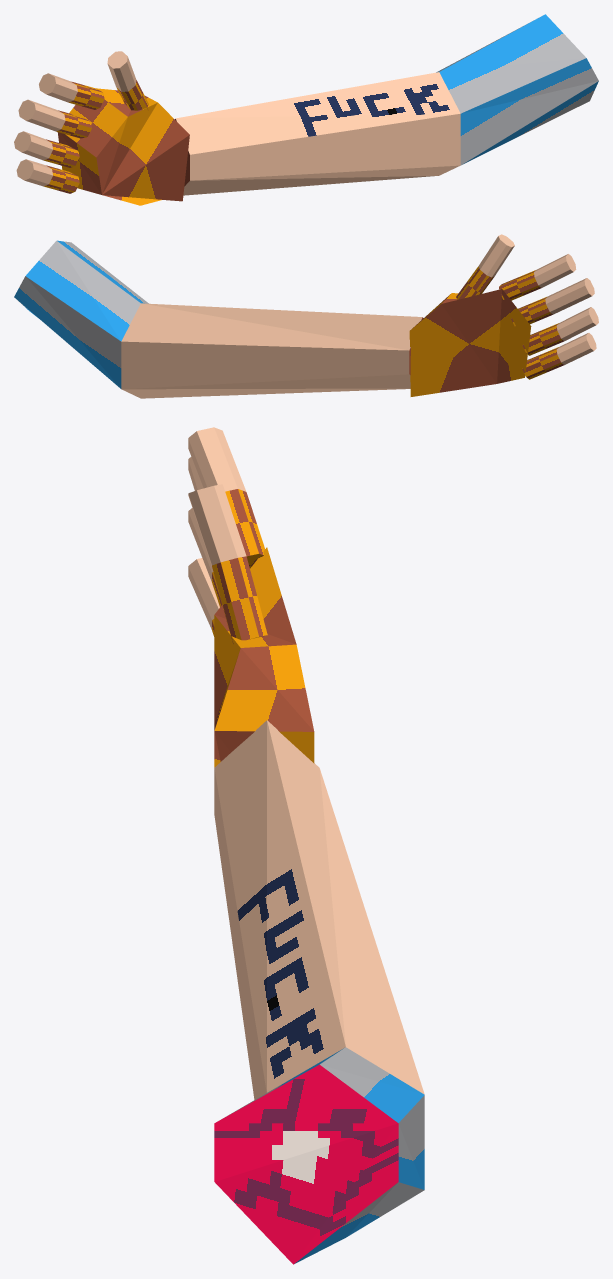
The model's file is hand1.glb.
3 renders of one model, top to bottom at view 1: azimuth 30°, elevation 25°; view 2: azimuth 150°, elevation 25°; view 3: azimuth 270°, elevation 25°, orthographic. The views are drawn at different scales.
Visible parts, largest first — view 1: mesh_0, mesh_1, mesh_2, mesh_5, mesh_3, mesh_6, mesh_4; view 2: mesh_0, mesh_1, mesh_5, mesh_2, mesh_3, mesh_4, mesh_6; view 3: mesh_0, mesh_1, mesh_6, mesh_5, mesh_4.
Part boxes in pixels (left/top/right/bottom): mesh_0: left=175, top=14, right=598, bottom=195; mesh_1: left=57, top=88, right=189, bottom=205; mesh_2: left=18, top=99, right=91, bottom=138; mesh_5: left=39, top=73, right=104, bottom=109; mesh_3: left=14, top=131, right=79, bottom=167; mesh_6: left=107, top=51, right=148, bottom=110; mesh_4: left=16, top=159, right=79, bottom=193; mesh_0: left=14, top=240, right=423, bottom=398; mesh_1: left=409, top=289, right=531, bottom=396; mesh_5: left=499, top=254, right=576, bottom=300; mesh_2: left=511, top=278, right=594, bottom=326; mesh_3: left=522, top=307, right=598, bottom=355; mesh_4: left=522, top=333, right=596, bottom=379; mesh_6: left=456, top=234, right=514, bottom=299; mesh_0: left=214, top=720, right=424, bottom=1264; mesh_1: left=214, top=547, right=314, bottom=767; mesh_6: left=188, top=484, right=267, bottom=643; mesh_5: left=188, top=427, right=264, bottom=568; mesh_4: left=188, top=558, right=219, bottom=636.
Bounding box in the file's own units: 12.03 × 4.57 × 2.25.
Materials: 1 (1 with a texture image).
